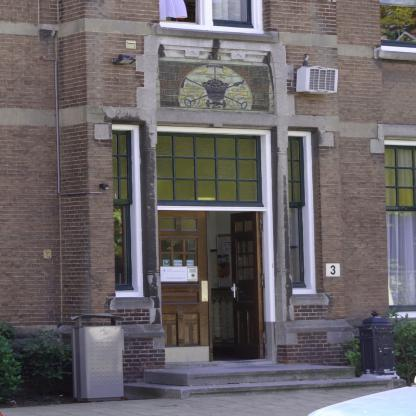door: (230, 213, 262, 351)
lever: (230, 283, 237, 300)
